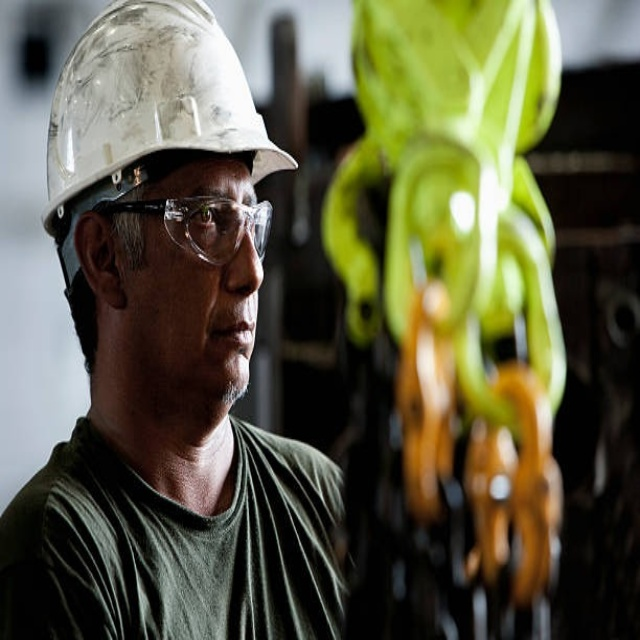Gafas: (93, 197, 274, 265)
Sin_mascara: (186, 301, 259, 386)
